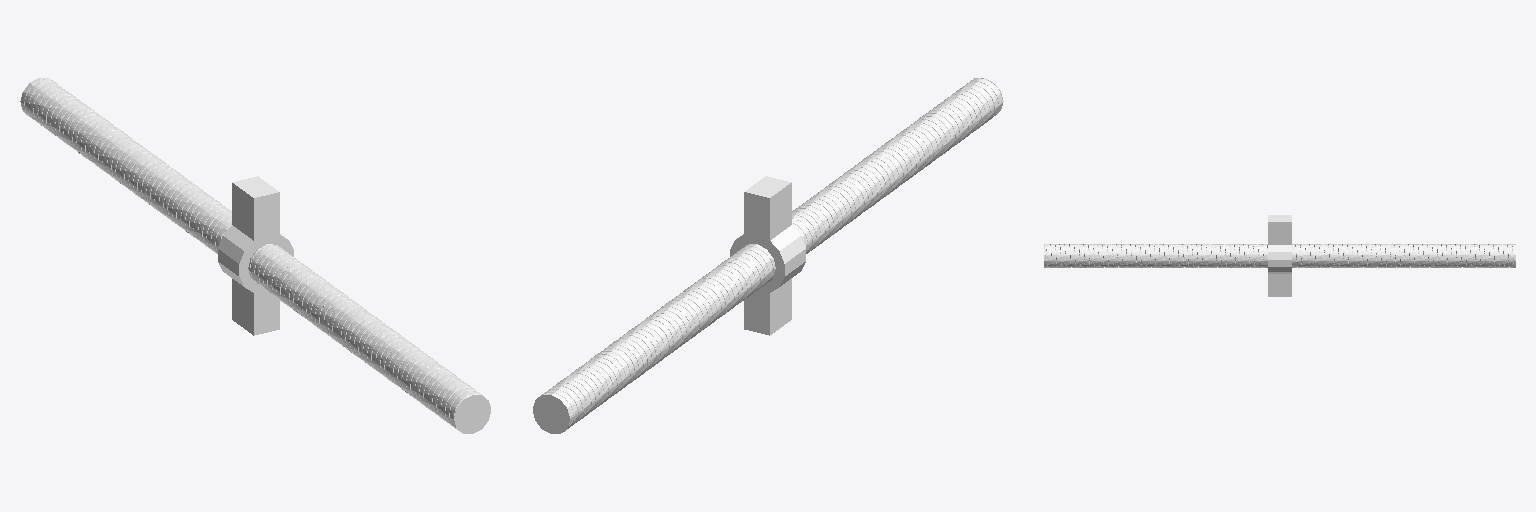
The robot description file, URDF, robot "solidworks2ros_try6":
<?xml version="1.0" encoding="utf-8"?>
<!-- This URDF was automatically created by SolidWorks to URDF Exporter! Originally created by [author] ([email redacted]) 
     Commit Version: 1.6.0-4-g7f85cfe  Build Version: 1.6.7995.38578
     For more information, please see http://wiki.ros.org/sw_urdf_exporter -->
<robot
  name="solidworks2ros_try6">

  <link 
    name="dummy"> 
  </link>

  <link name="base_link">
    <inertial>
      <origin
        xyz="0 -6.6613E-16 -0.26807"
        rpy="0 0 0" />
      <mass
        value="675.68" />
      <inertia
        ixx="2906.5"
        ixy="-2.4908E-13"
        ixz="3.0316E-15"
        iyy="171.8"
        iyz="-1.0109E-13"
        izz="2995.7" />
    </inertial>
    <visual>
      <origin
        xyz="0 0 0"
        rpy="0 0 0" />
      <geometry>
        <mesh
          filename="package://solidworks2ros_try6/meshes/base_link.STL" />
      </geometry>
      <material
        name="">
        <color
          rgba="1 0.72157 0.32941 1" />
      </material>
    </visual>
    <collision>
      <origin
        xyz="0 0 0"
        rpy="0 0 0" />
      <geometry>
        <mesh
          filename="package://solidworks2ros_try6/meshes/base_link.STL" />
      </geometry>
    </collision>
  </link>

  <joint name="dummy_joint" type="fixed">
     <parent link="dummy"/>
     <child link="base_link"/>
  </joint>

  <link name="link_1">
    <inertial>
      <origin
        xyz="8.6234E-07 -1.4857E-05 2.0799E-06"
        rpy="0 0 0" />
      <mass
        value="295.71" />
      <inertia
        ixx="555.35"
        ixy="0.0013913"
        ixz="-0.00014897"
        iyy="4.9602"
        iyz="-0.0014908"
        izz="553" />
    </inertial>
    <visual>
      <origin
        xyz="0 0 0"
        rpy="0 0 0" />
      <geometry>
        <mesh
          filename="package://solidworks2ros_try6/meshes/link_1.STL" />
      </geometry>
      <material
        name="">
        <color
          rgba="1 1 1 1" />
      </material>
    </visual>
    <collision>
      <origin
        xyz="0 0 0"
        rpy="0 0 0" />
      <geometry>
        <mesh
          filename="package://solidworks2ros_try6/meshes/link_1.STL" />
      </geometry>
    </collision>
  </link>
  <joint name="joint_1" type="continuous">
    <origin
      xyz="0 0 0"
      rpy="0 0 0" />
    <parent
      link="base_link" />
    <child
      link="link_1" />
    <axis
      xyz="0 1 0" />
    <limit
      lower="-3.14"
      upper="3.14"
      effort="300"
      velocity="3" />
  </joint>

  <!-- Position Contoller -->
  <transmission name ="trans_1">
      <type>transmission_interface/SimpleTransmission</type>
      <joint name="joint_1">
          <hardwareInterface>hardware_interface/PositionJointInterface</hardwareInterface>
      </joint>
      <actuator name="motor_1">
          <hardwareInterface>hardware_interface/PositionJointInterface</hardwareInterface>
          <mechanicalReduction>1</mechanicalReduction>
      </actuator>
  </transmission>

  <!-- Gazebo controller -->

  <gazebo>
      <plugin name="control" filename="libgazebo_ros_control.so"/>
  </gazebo>

  <gazebo>
    <plugin name="joint_state_publisher" filename="libgazebo_ros_joint_state_publisher.so">
      <robotNamespace>/</robotNamespace>
    </plugin>
  </gazebo>
    
  <!-- Gazebo visual interface for the links-->
  <gazebo reference="base_link">
      <material>Gazebo/Orange</material>
  </gazebo>
  <gazebo reference="link_1">
      <material>Gazebo/white</material>
  </gazebo>

  
</robot>

--- Render facts (derived) ---
3 views of the same robot in one strip: view 1: azimuth 30°, elevation 25°; view 2: azimuth 150°, elevation 25°; view 3: azimuth 270°, elevation 25° (orthographic).
Robot: solidworks2ros_try6 — 3 links, 2 joints (1 continuous, 1 fixed); root link dummy; default pose: every joint at zero.
Visible links, largest first — view 1: link_1; view 2: link_1; view 3: link_1.
Boxes of the visible links, box(x1,y1,x2,y2) form: link_1: box(20, 78, 490, 433); link_1: box(533, 78, 1003, 433); link_1: box(1044, 215, 1515, 296).
Size in the robot's own frame: 0.3719 by 5.08 by 0.889 metres.
Meshes: 2 distinct files referenced, 1 mesh visuals loaded (1 binary STL); not drawn: 1 (reference not matched to a file when rendering).
